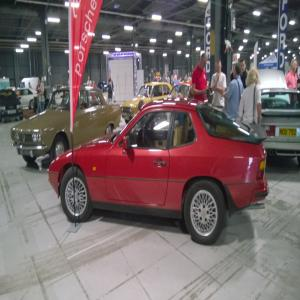Vehicle-registration-plate: (281, 128, 298, 137)
